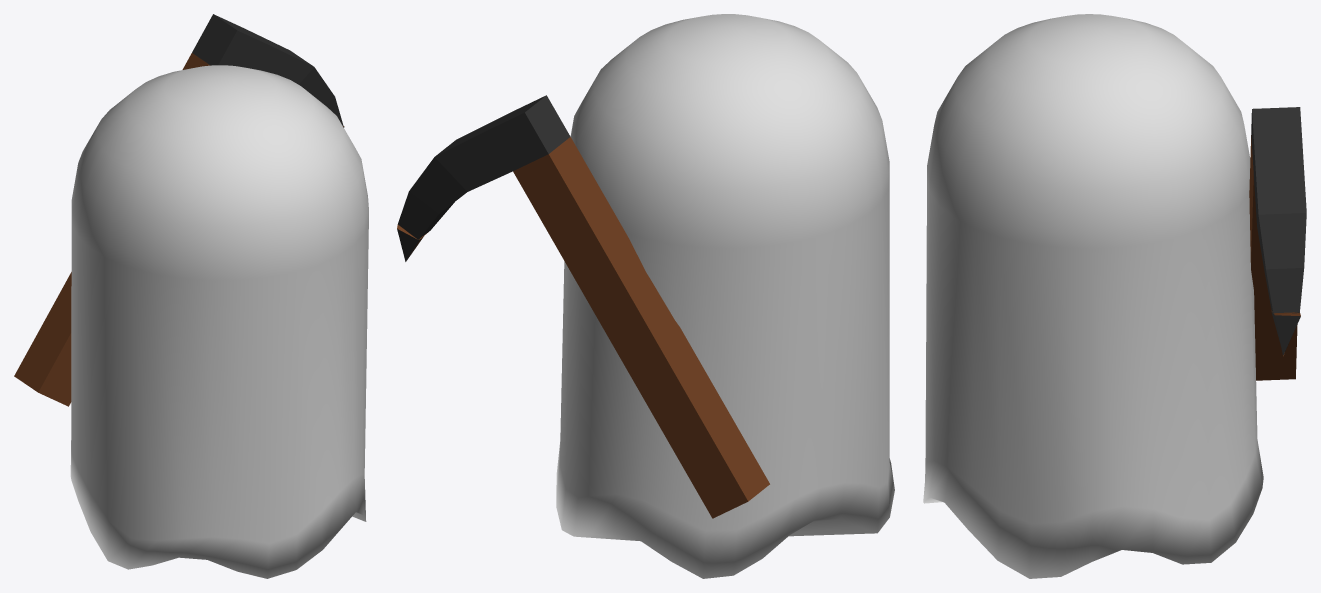
The model's file is Phantom_Faux.fbx.
The picture shows the model from 3 angles, left to right: view 1: azimuth 30°, elevation 25°; view 2: azimuth 150°, elevation 25°; view 3: azimuth 270°, elevation 25°; orthographic projection. The views are drawn at different scales.
Parts seen in each view (by area): view 1: Cylindre.001, Cube.001; view 2: Cylindre.001, Cube.001; view 3: Cylindre.001, Cube.001.
Boxes of the visible parts, box(x1,y1,x2,y2) form: Cylindre.001: box(70, 65, 368, 578); Cube.001: box(14, 14, 344, 406); Cylindre.001: box(556, 14, 894, 578); Cube.001: box(397, 95, 769, 518); Cylindre.001: box(923, 14, 1263, 578); Cube.001: box(1249, 107, 1306, 380).
Bounding box in the file's own units: 262 × 328 × 236.
